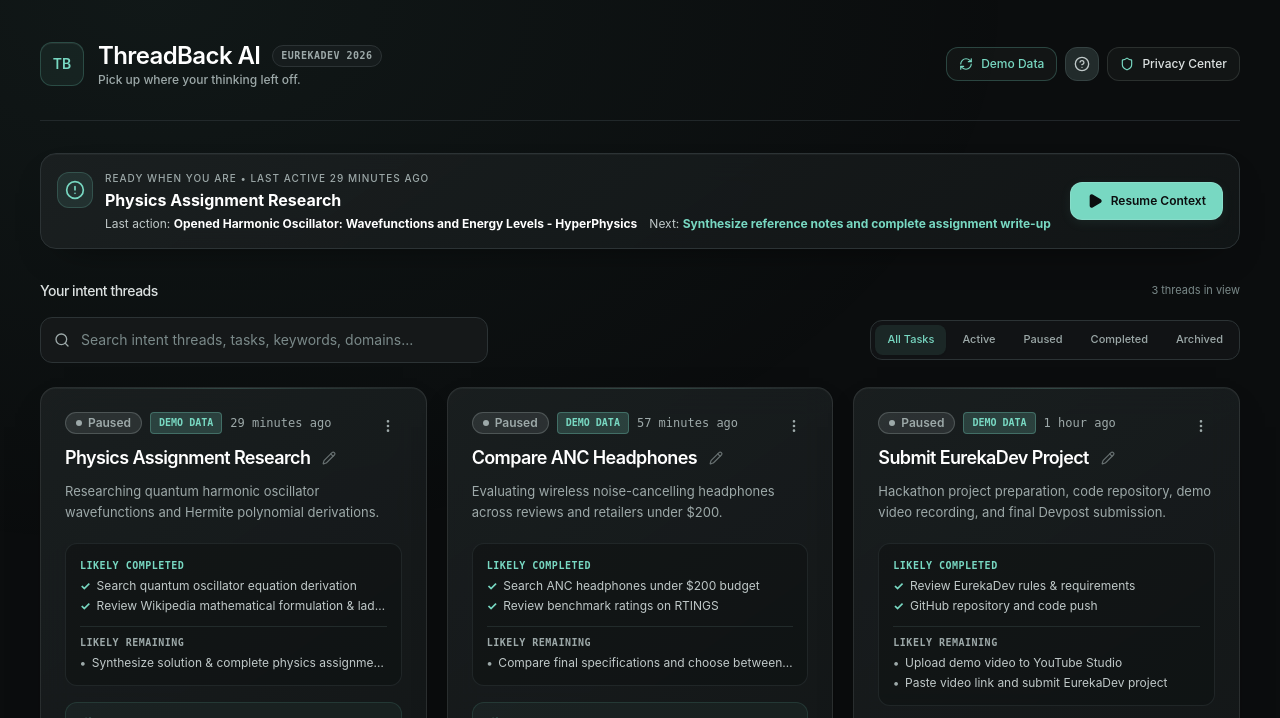
Test: Polished extension UI workflows › renames, archives and finds a thread through the archived filter
expect the heading "Submit EurekaDev Project" is shown: met, box [878,446,1089,471]
Click the 1st button titled "Rename Intent": coordinates (329, 458) [318,447,340,469]
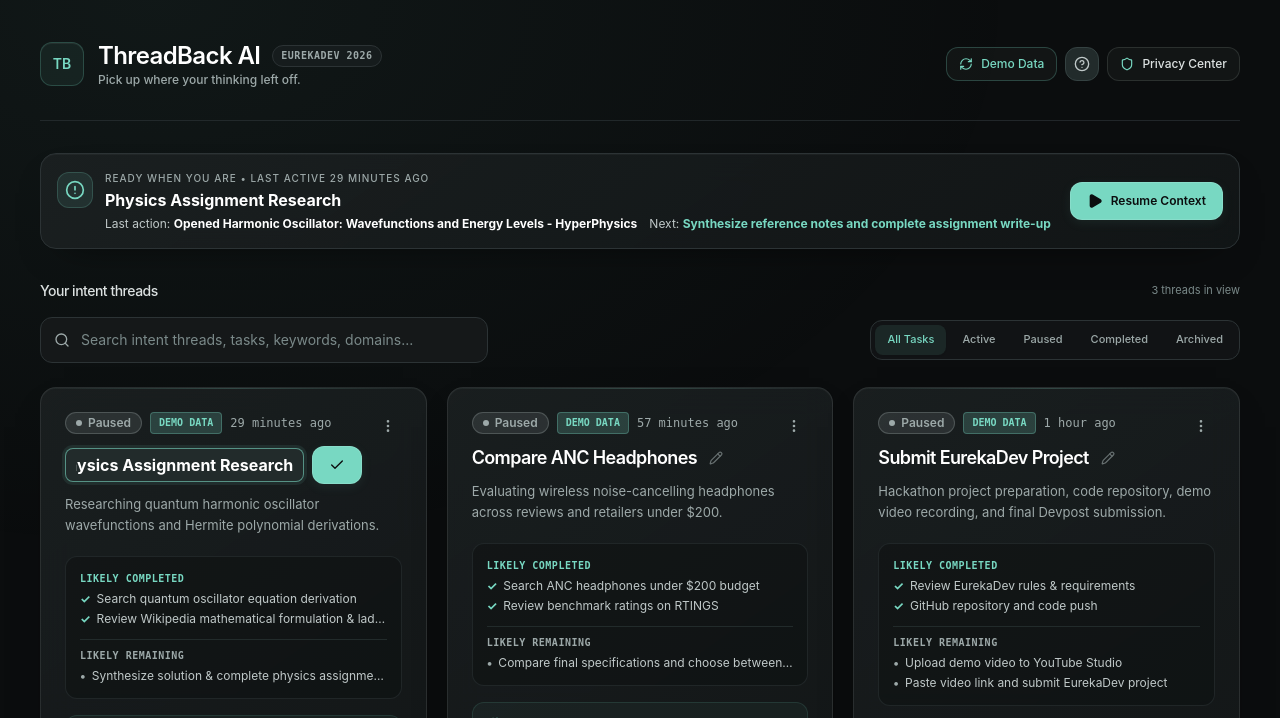
Replace the text in the field named "Task title" with "Finish presentation": coordinates (184, 465) [65,448,304,482]
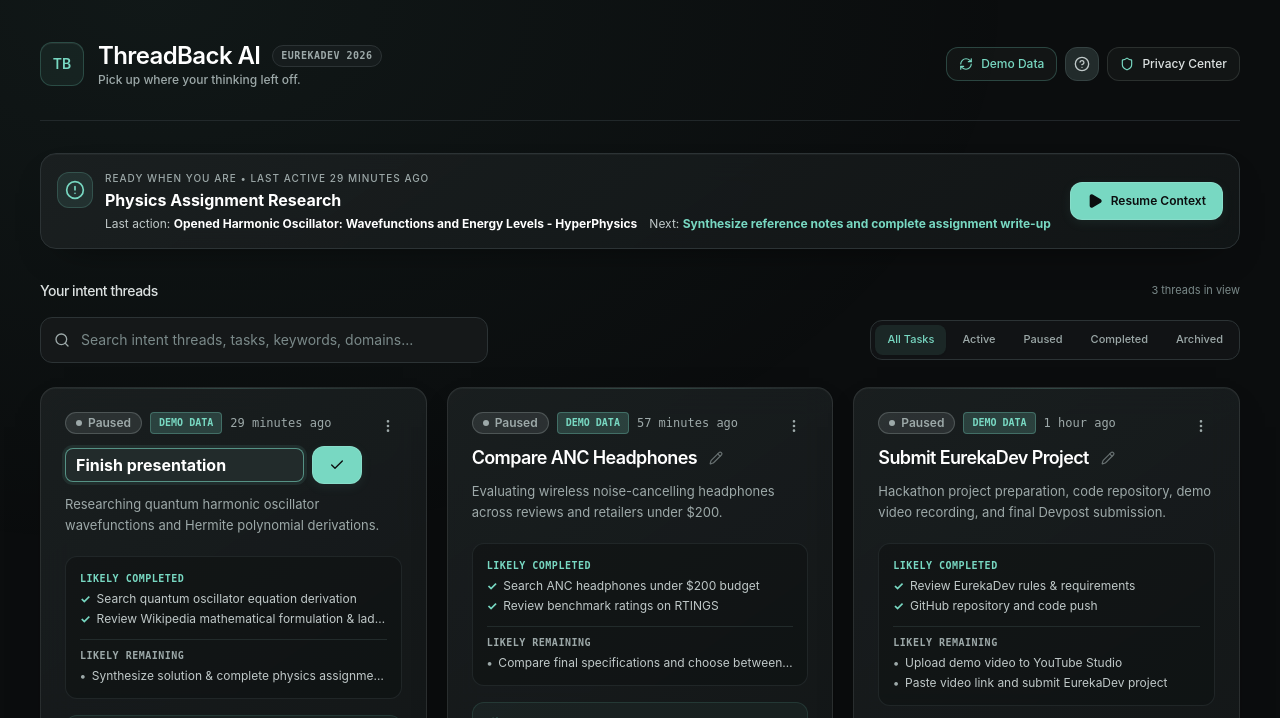
Click the button named "Save task title": coordinates (337, 465) [312,446,362,484]
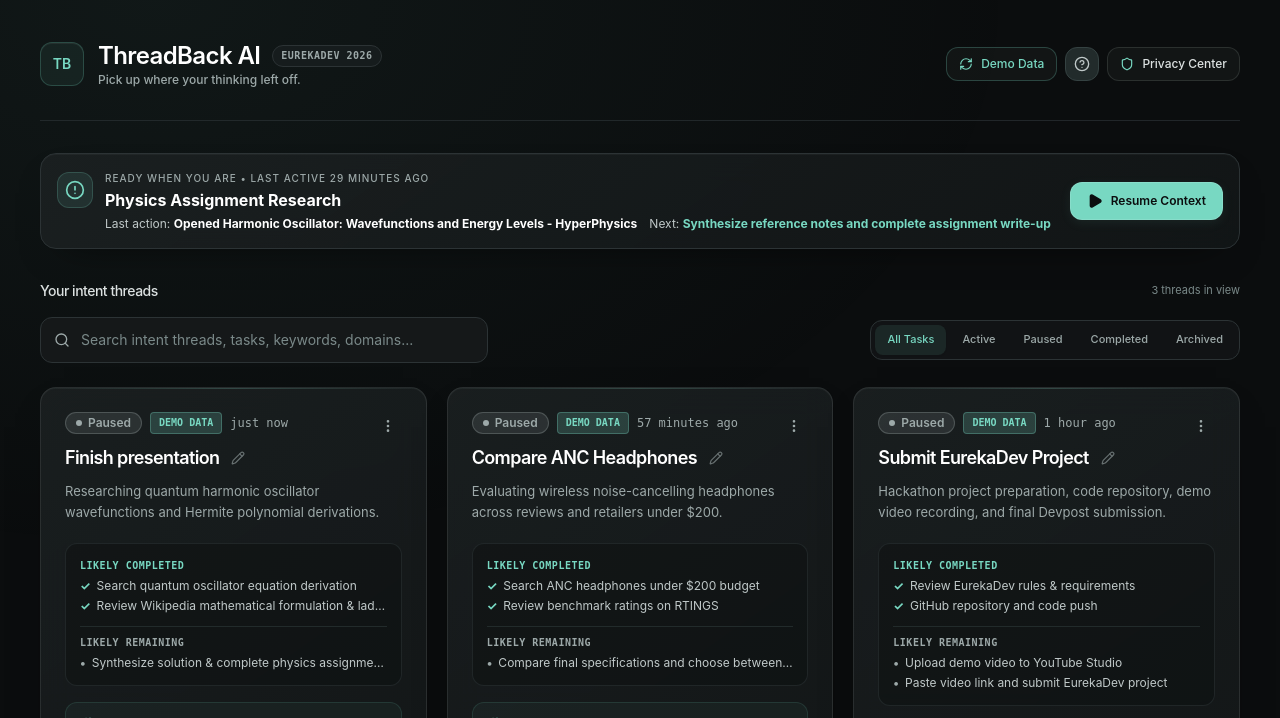
expect the heading "Finish presentation" is shown: met, box [65,446,220,471]
Click the button named "Task actions" next to "just now": coordinates (388, 426) [374,412,402,440]
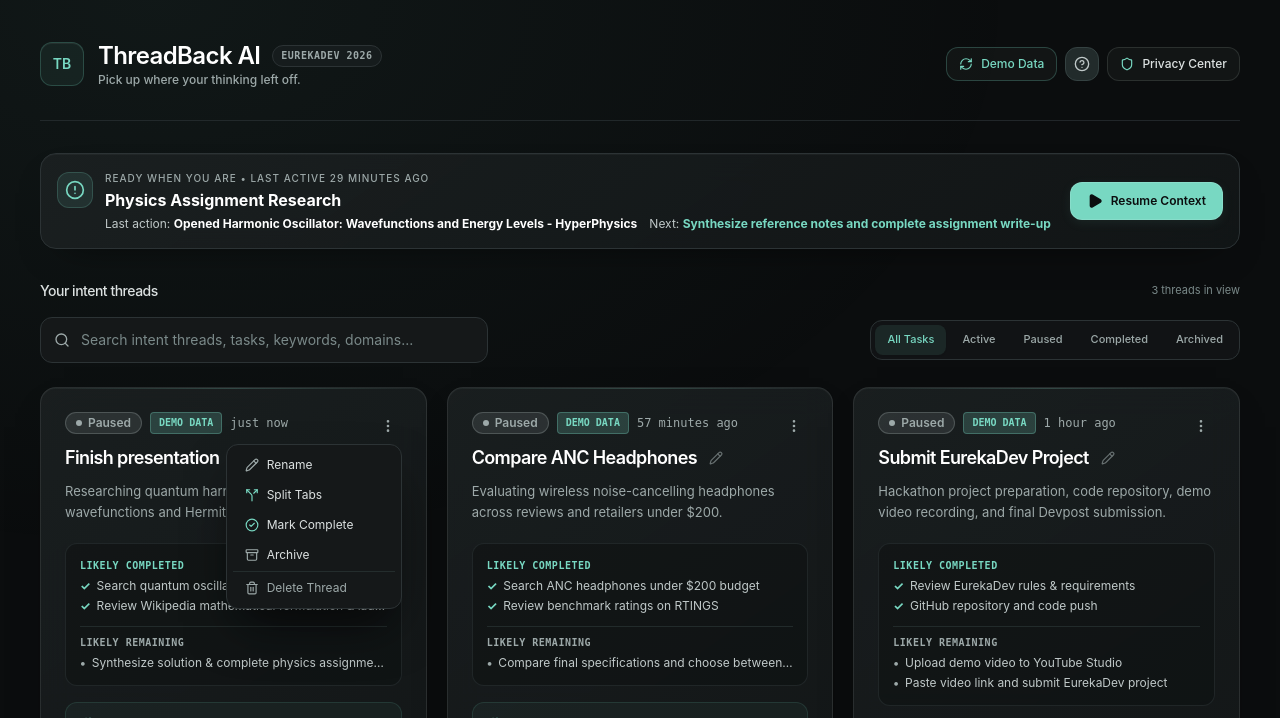
Click the button "Archive": coordinates (314, 555) [233,541,395,569]
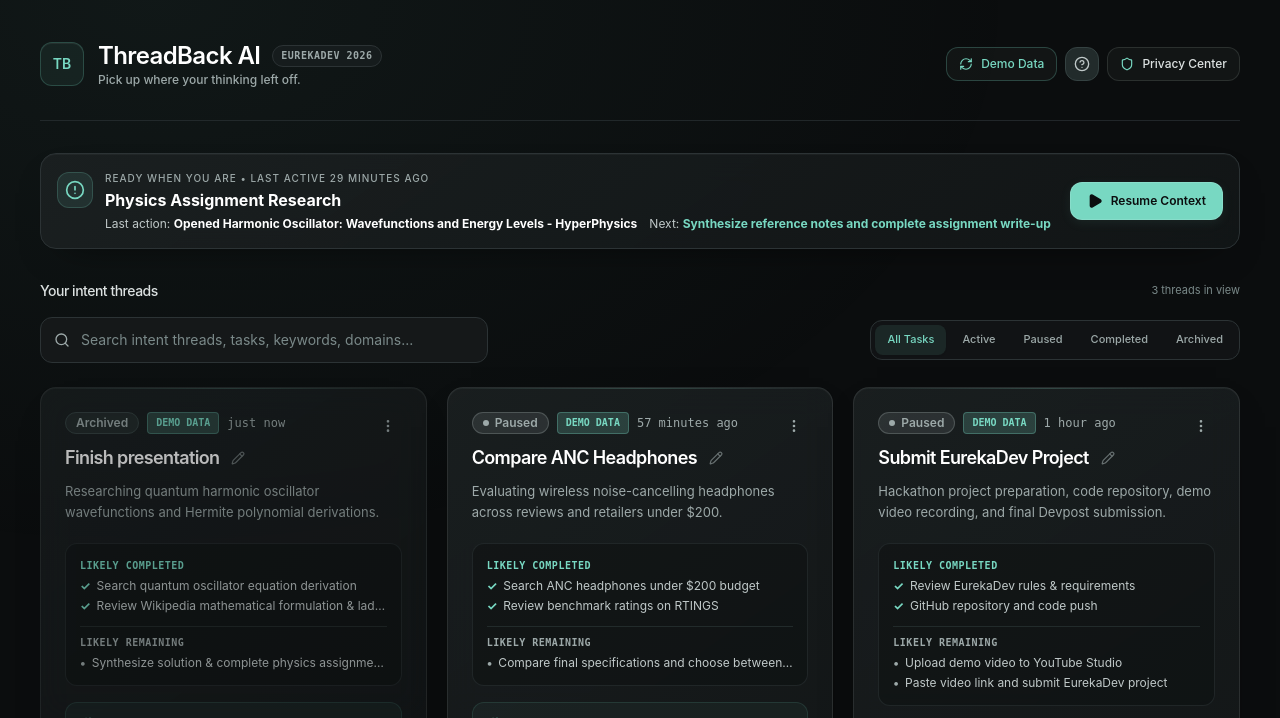
Click the button "Archived": coordinates (1200, 340) [1164,325,1235,355]
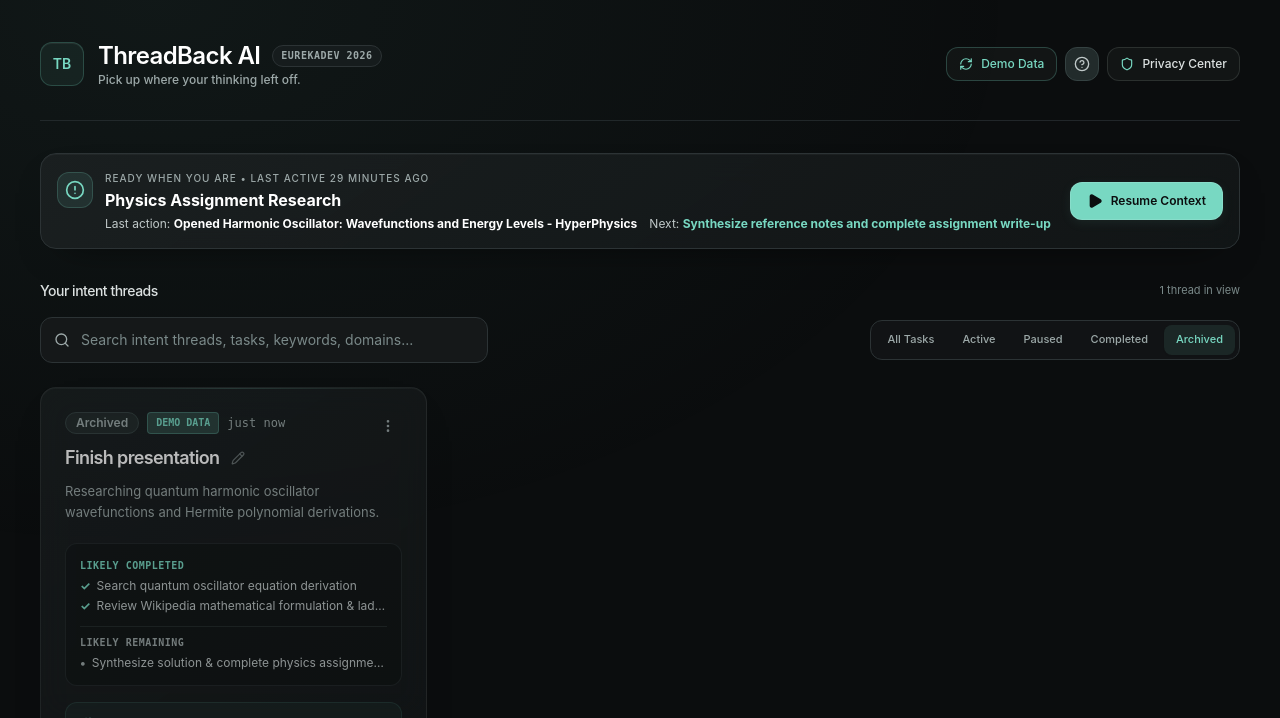
expect the heading "Finish presentation" is shown: met, box [65,446,220,471]
expect the heading "Submit EurekaDev Project" is gone: met
